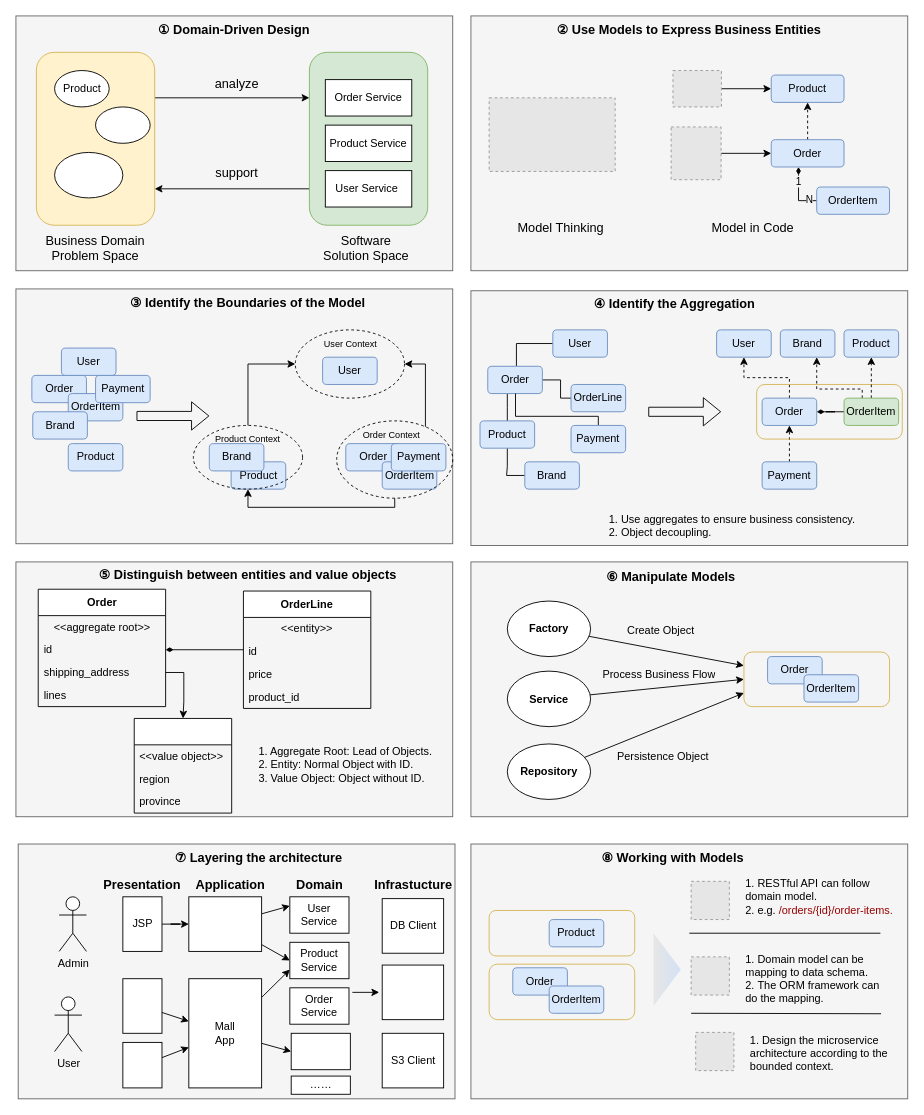
This 924x1115 diagram has some shape labels left out. Grey dashed boxes stand in for pictures. The shapes that lost their labels are listed below. From the top down, each one's box as (x1, y1, x2, y2) in pixels, then its label:
(95, 106, 150, 143): Sales
(54, 152, 123, 198): Customer Service
(133, 718, 232, 813): Address
(188, 896, 262, 951): Admin console
(122, 978, 162, 1033): REST API
(381, 964, 444, 1020): Redis Client
(122, 1041, 162, 1088): Web Socket
(290, 1032, 350, 1070): Payment Service
